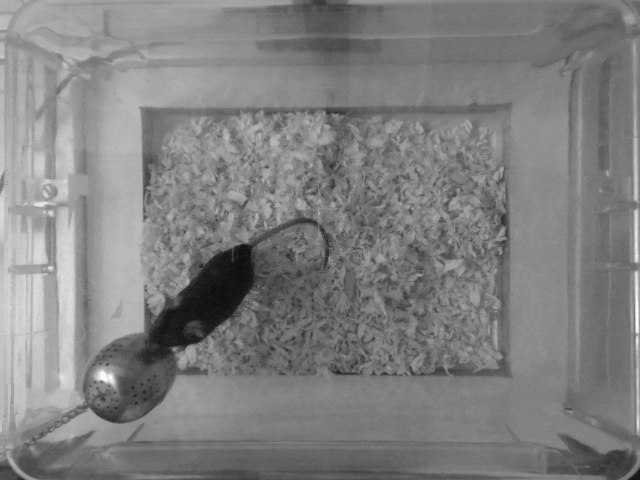mice: (142, 212, 334, 359)
